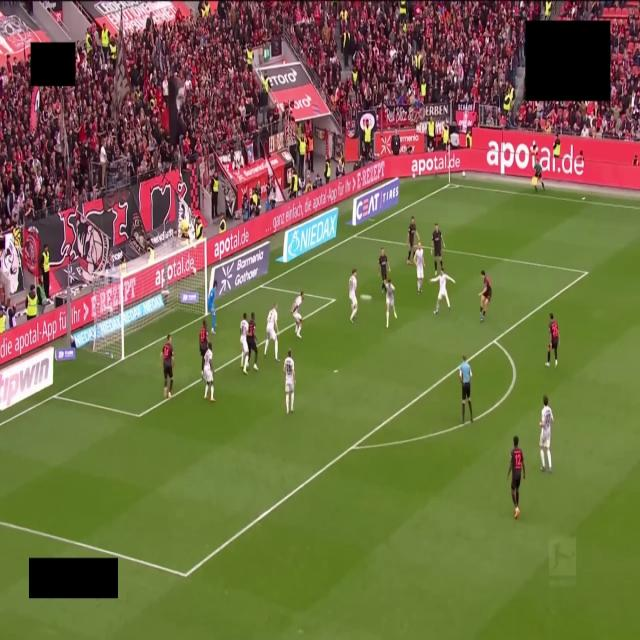ball: (360, 294, 372, 300)
player: (508, 436, 525, 519), (431, 268, 455, 313), (540, 395, 553, 472), (283, 350, 295, 413), (265, 304, 278, 361), (203, 342, 215, 403), (162, 335, 173, 398), (431, 224, 444, 275), (546, 313, 558, 367), (479, 271, 491, 321), (247, 312, 257, 370), (407, 216, 419, 264), (378, 248, 391, 292), (240, 313, 249, 375), (291, 292, 303, 337), (414, 241, 424, 294), (199, 320, 208, 378), (385, 280, 396, 327), (208, 280, 217, 335), (349, 269, 357, 323)
referee: (459, 356, 472, 423)
